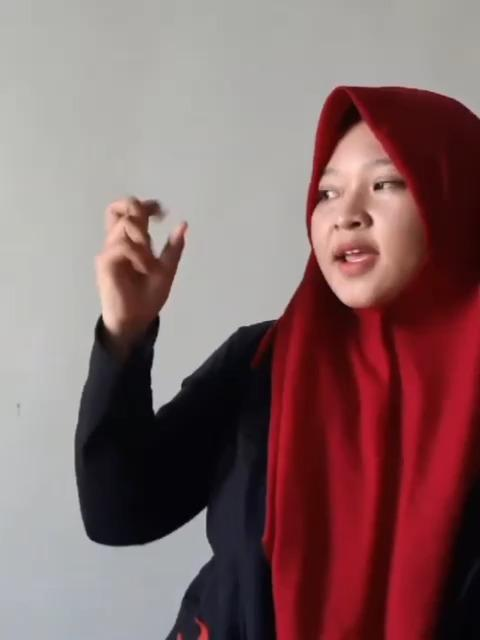R: (92, 189, 198, 323)
